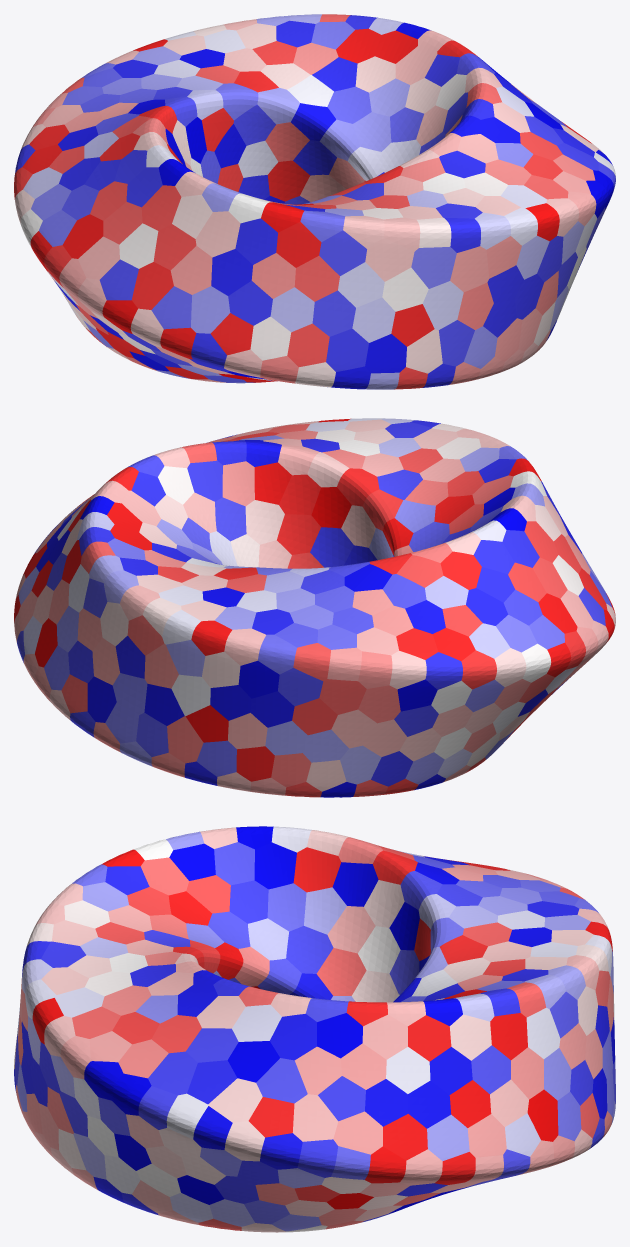
File: Ours_600_mobius1_RVD.obj
3 renders of one model, top to bottom at view 1: azimuth 30°, elevation 25°; view 2: azimuth 150°, elevation 25°; view 3: azimuth 270°, elevation 25°, orthographic. The views are drawn at different scales.
Visible parts, largest first — view 1: 3D_Object; view 2: 3D_Object; view 3: 3D_Object.
Boxes of the visible parts, x1,y1,x2,y2 form: 3D_Object: (14, 14, 615, 389); 3D_Object: (14, 418, 615, 797); 3D_Object: (14, 826, 615, 1232).
Bounding box in the file's own units: 6.8 × 2.63 × 6.26.
1 material, 1 textured.
